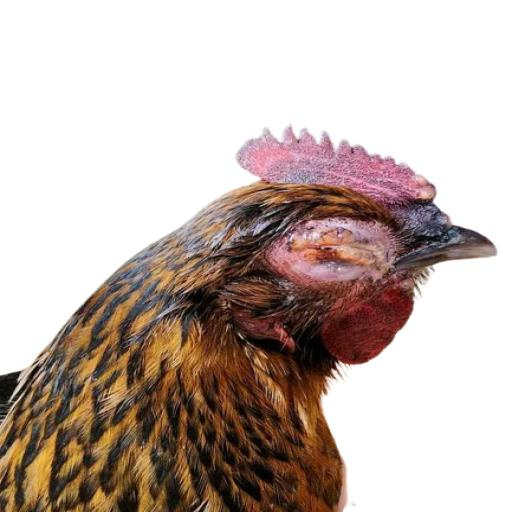disease: (231, 121, 451, 212), (255, 208, 412, 304)
